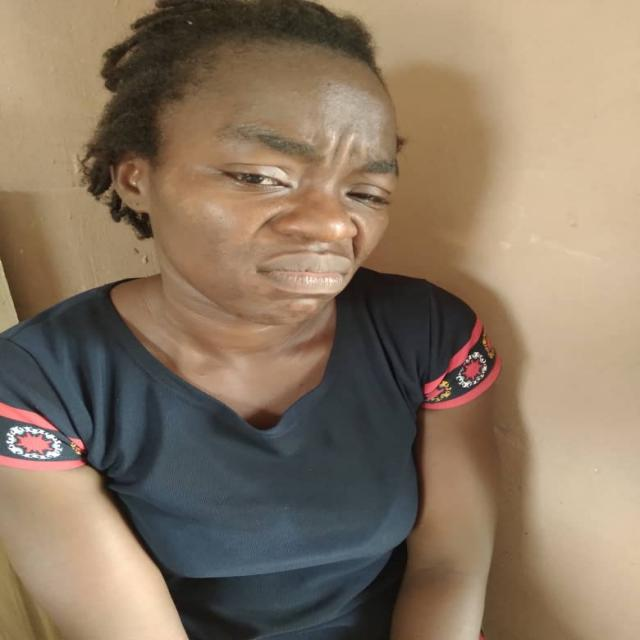sad: (111, 16, 408, 330)
